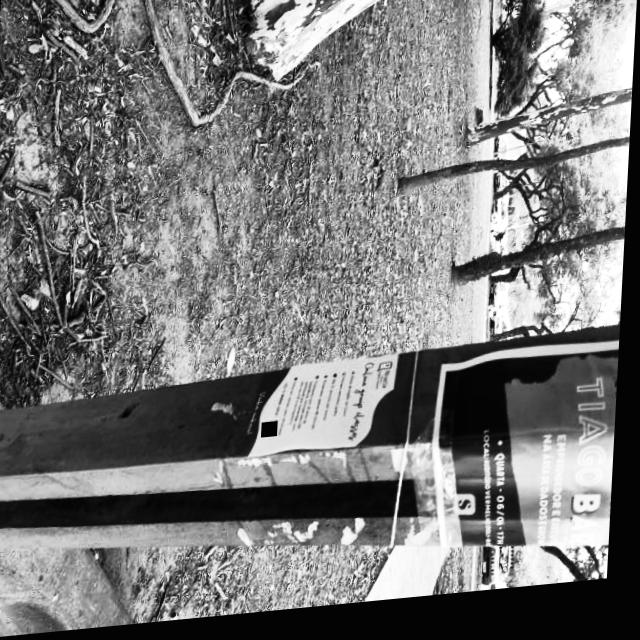qr_code: (265, 427, 282, 443)
